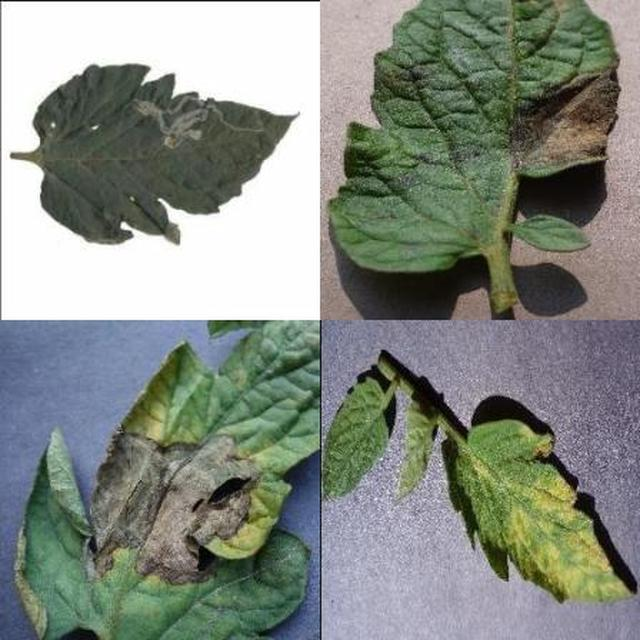Leaf Miner: (104, 182, 640, 640)
